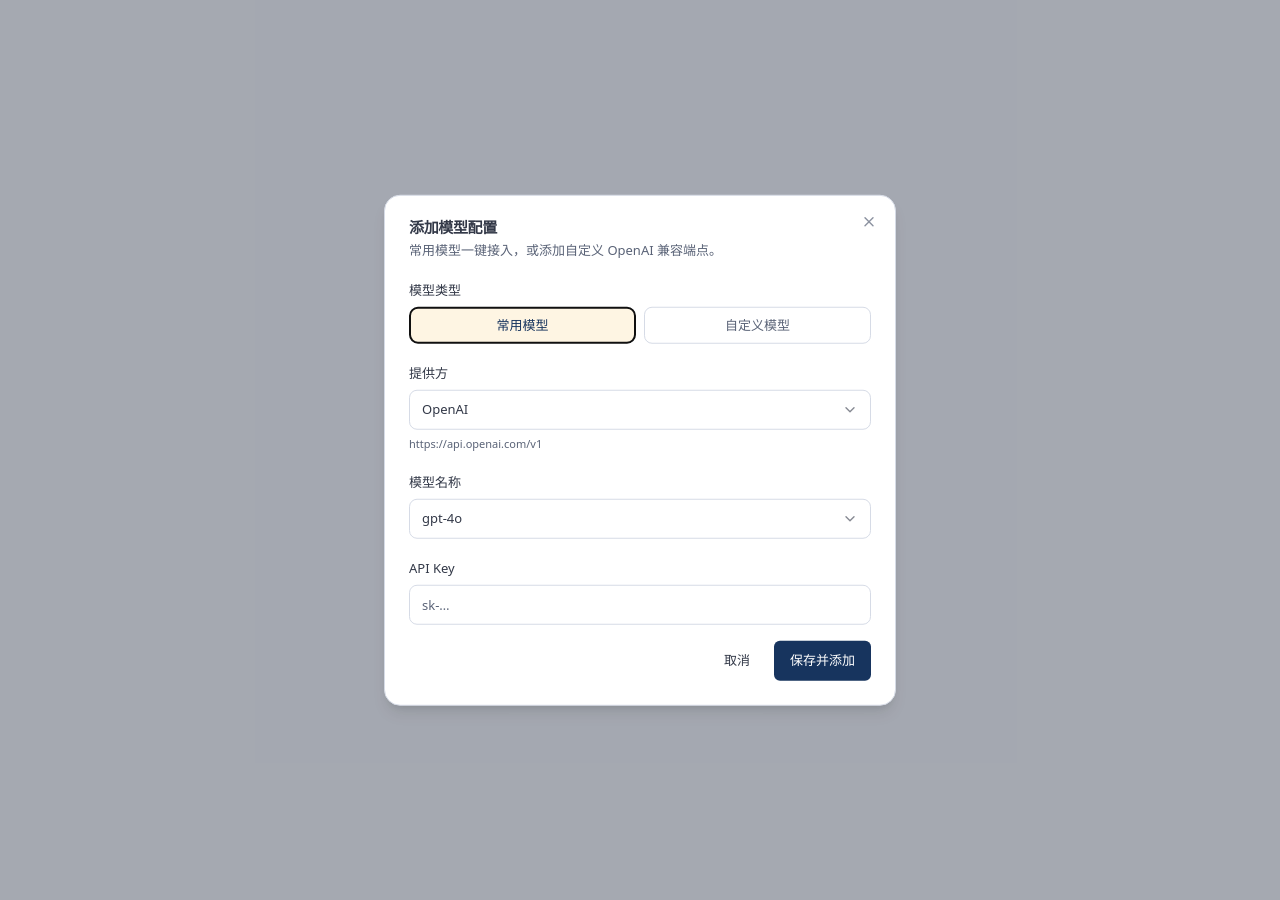
Scenario: AddModelConfigDialog · B-07 › 自定义模型：显示 Base URL / 模型名 / 上下文窗口；缺 Base URL 时拦截提交
The image size is (1280, 900).
Click the radio button with test id "add-model-kind-custom" at (758, 325), box [644,306,871,344]
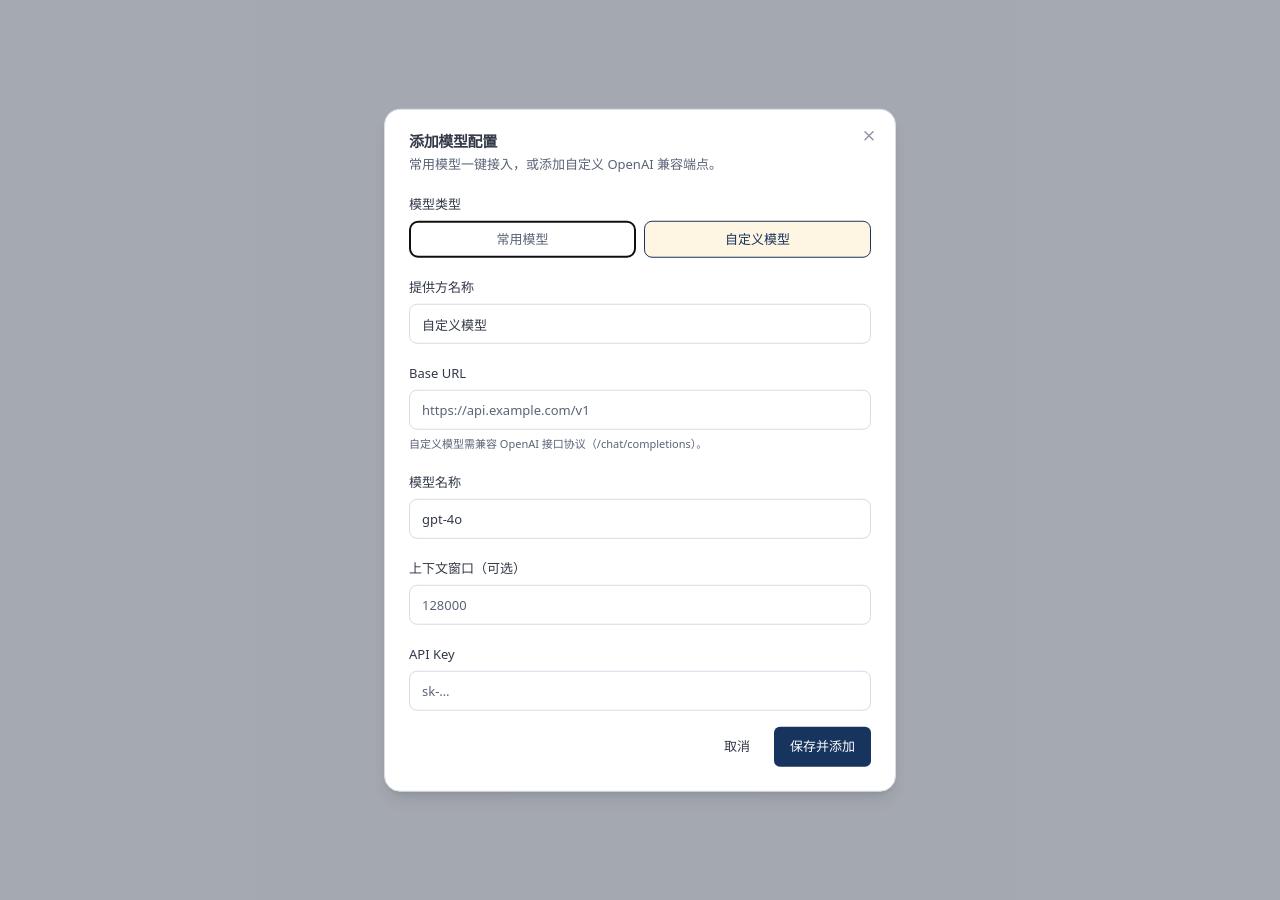
expect the field with test id "add-model-endpoint" is shown: met, box [409,390,871,430]
expect the field with test id "add-model-name" is shown: met, box [409,498,871,538]
expect the field with test id "add-model-context" is shown: met, box [409,584,871,624]
Click the button with test id "add-model-submit" at (822, 746), box [774,726,871,766]
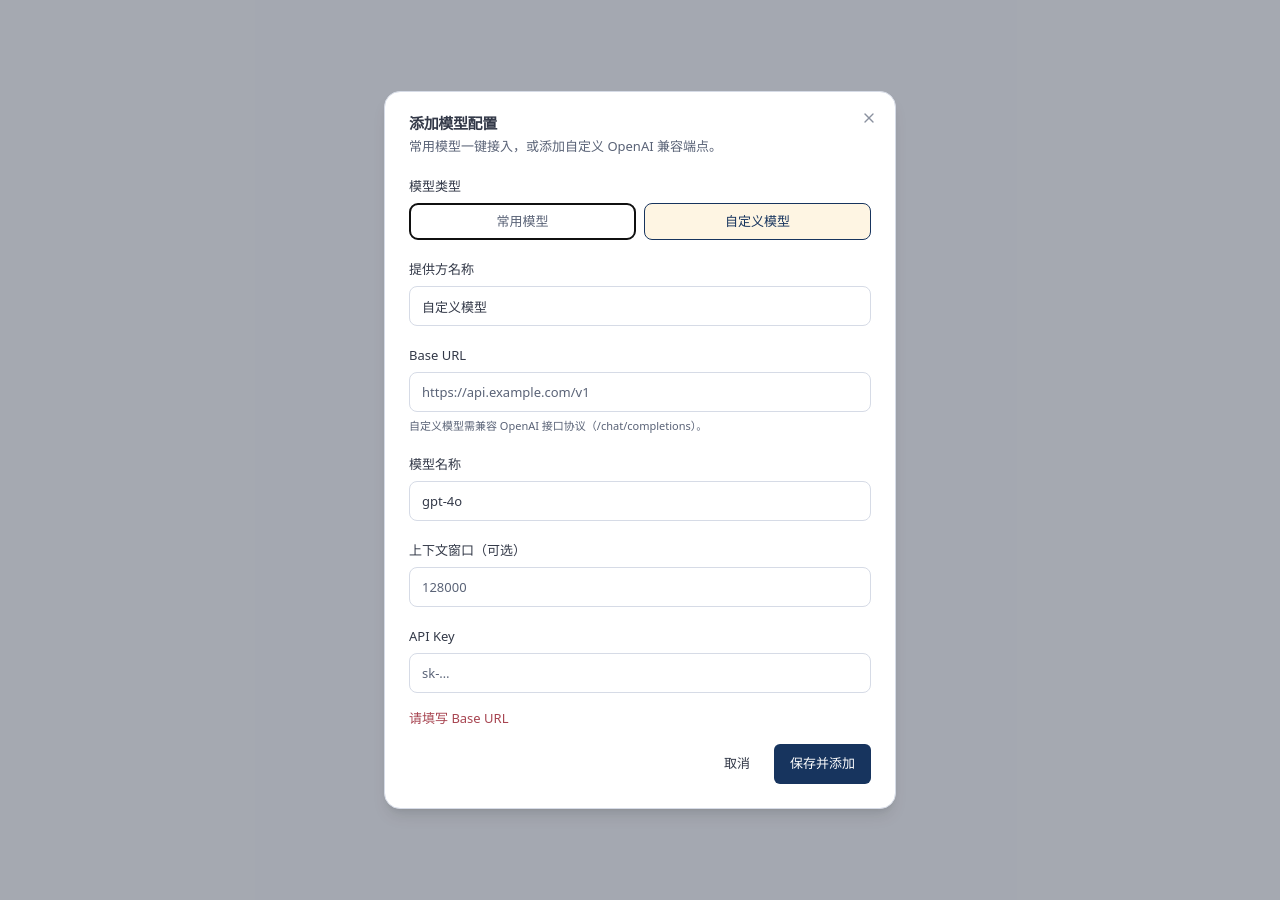
expect the message with test id "add-model-error" reads "请填写 Base URL": met, box [409,708,508,726]
